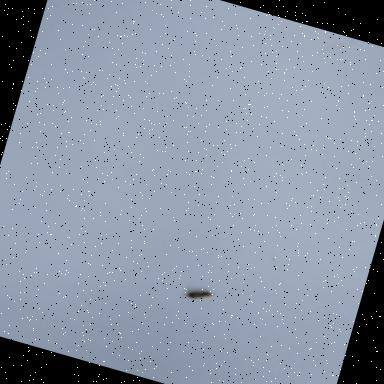pbw: (178, 281, 222, 309)
